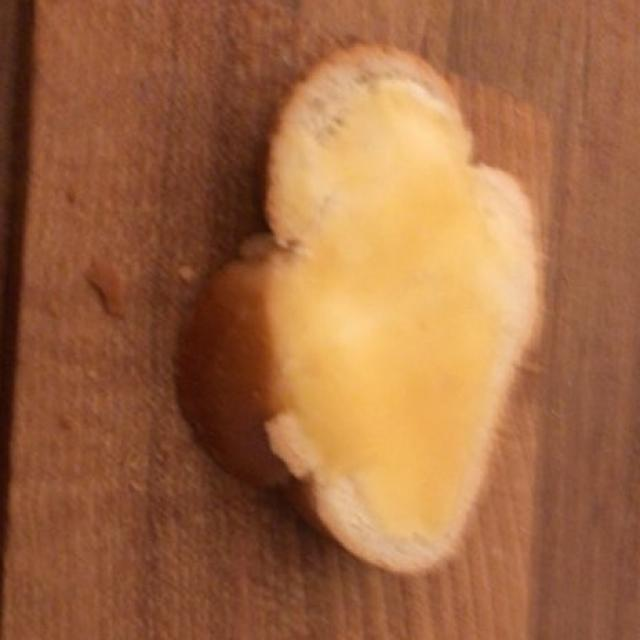bread: (184, 43, 530, 558)
honey: (275, 94, 501, 535)
